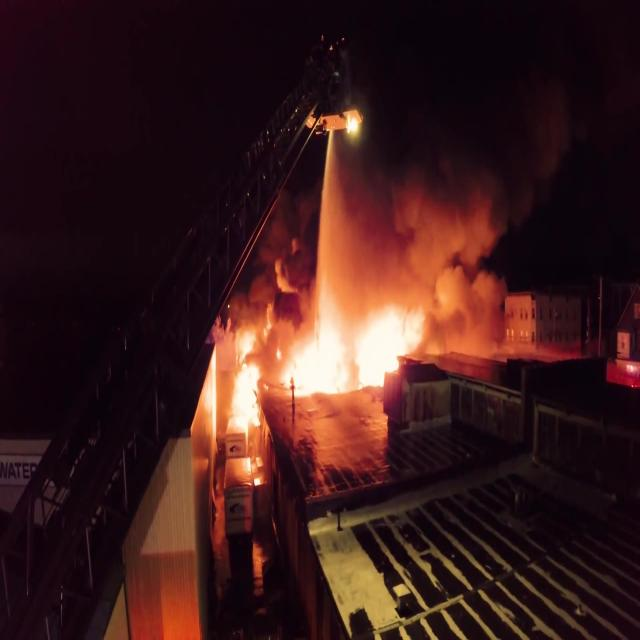Fire: (213, 285, 424, 447)
Smoke: (218, 46, 511, 327)
